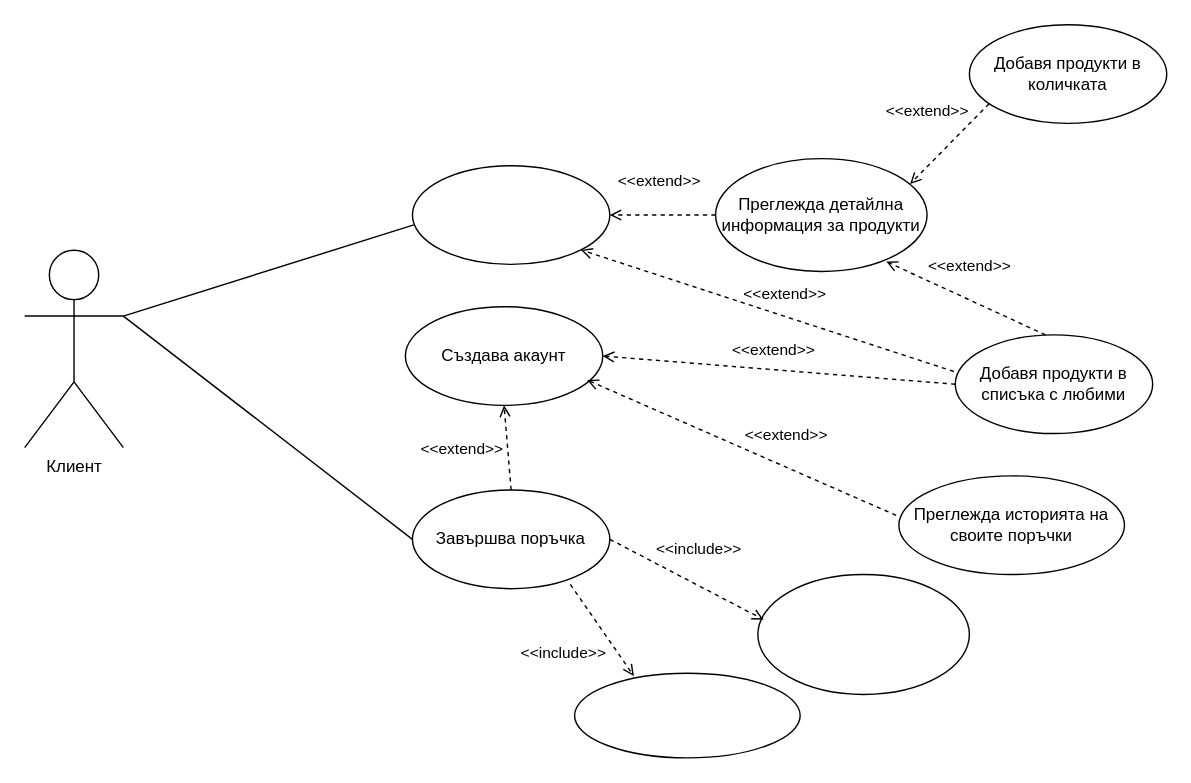
Some shapes in this 1191 by 783 pixel diagram are drawn without their labels. The centre of each missing label's shape, as x and y in pixels:
"Въвежда лични данни за доставка и плащане" belongs at (862,633).
"Проследява завършената поръчка" belongs at (686,715).
"Разглежда продукти" belongs at (510,214).
